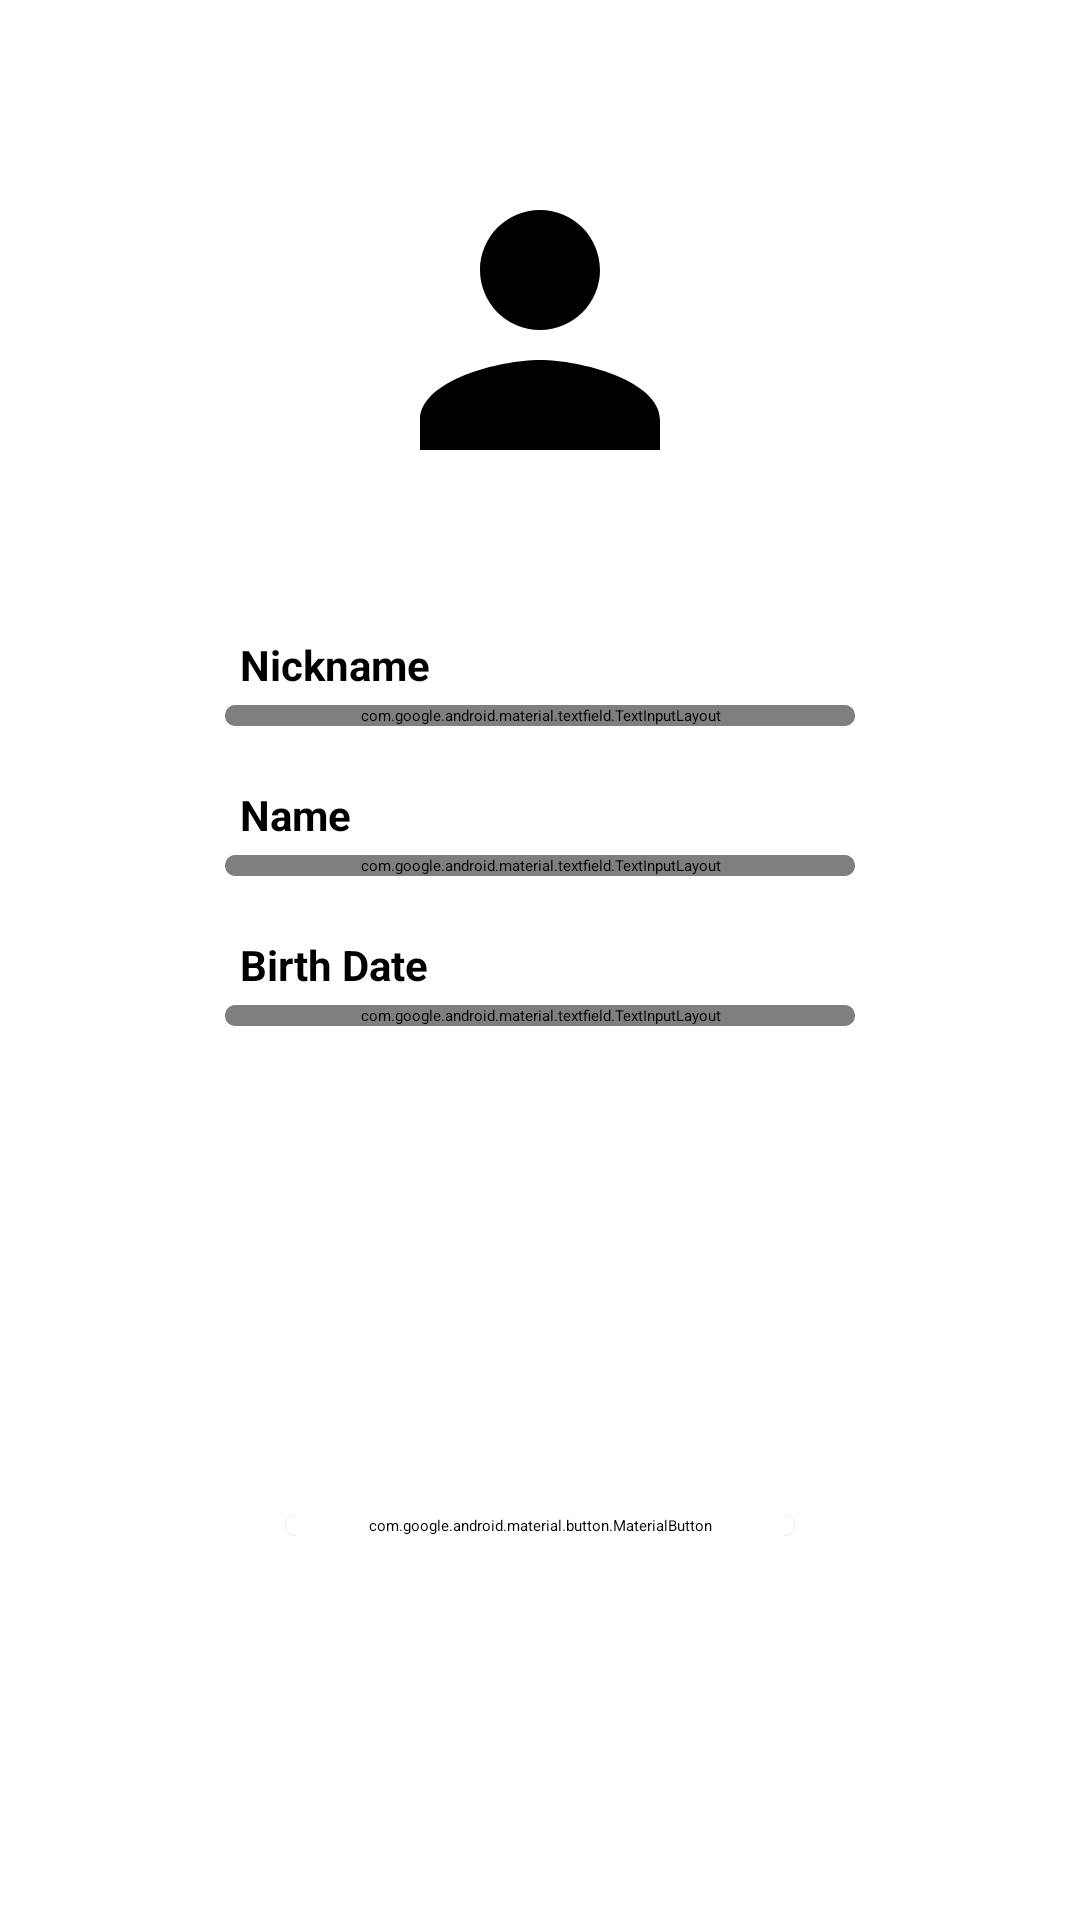

Screen size 1080*1920. Icon name, then its center in pixels as (x,y):
Profile Picture View: (540,330)
